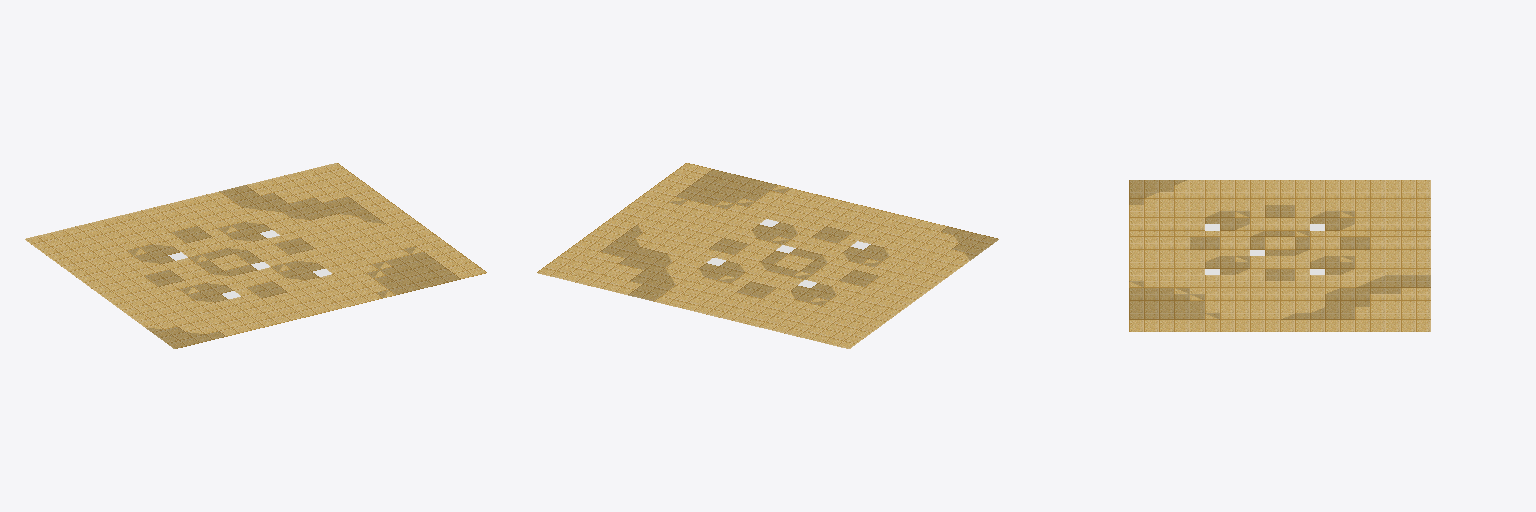
3 views of the same model, side by side, from view 1: azimuth 30°, elevation 25°; view 2: azimuth 150°, elevation 25°; view 3: azimuth 270°, elevation 25° (orthographic).
Visible parts, largest first — view 1: FloorSide_4; view 2: FloorSide_4; view 3: FloorSide_4.
Part boxes in pixels (x1,y1,x2,y2): FloorSide_4: (25, 163, 486, 348); FloorSide_4: (537, 163, 998, 348); FloorSide_4: (1129, 180, 1430, 331).
Size of the model in its own units: 24 by 0 by 20.
Materials: 6 (5 with a texture image).